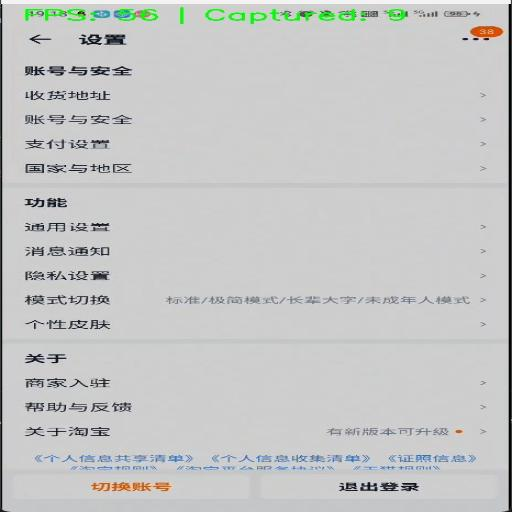back: (2, 29, 68, 57)
butten: (444, 32, 505, 50), (24, 270, 110, 281)
